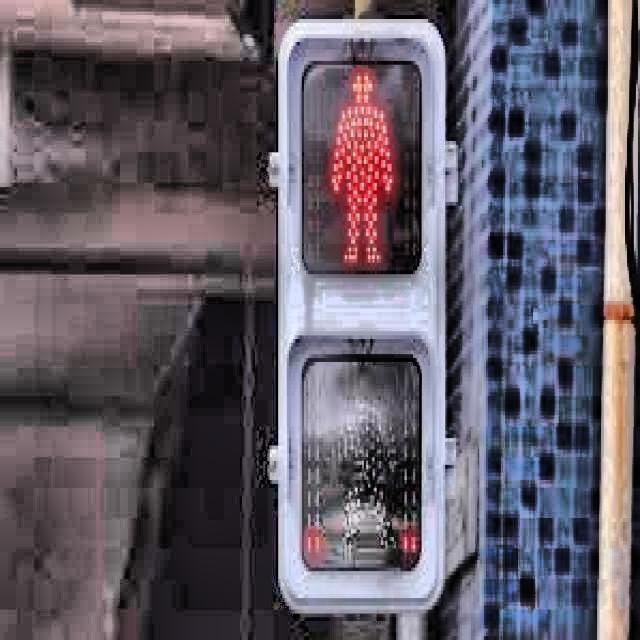semaforo pedestre: (230, 19, 488, 574), (282, 55, 435, 292)
